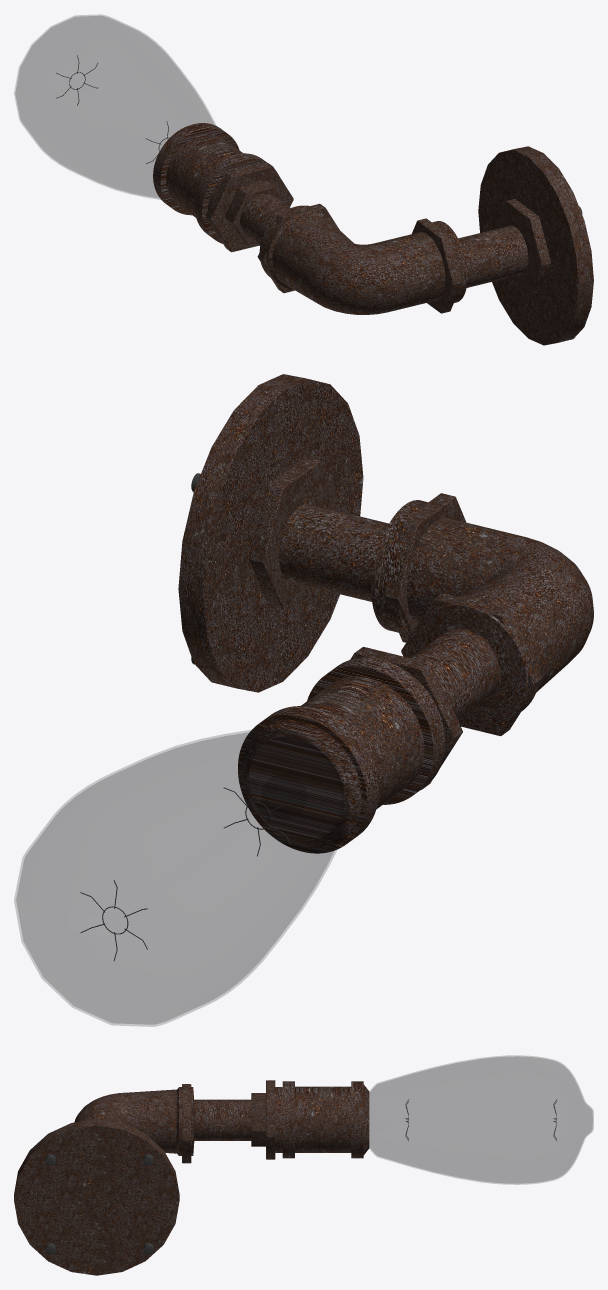
Rendered from lambaa2.fbx.
The picture shows the model from 3 angles, top to bottom: view 1: azimuth 30°, elevation 25°; view 2: azimuth 150°, elevation 25°; view 3: azimuth 270°, elevation 25°; orthographic projection. The views are drawn at different scales.
Parts seen in each view (by area): view 1: Line087, Line083, pCylinder1, Line089, Line084, Cylinder068, Cylinder063, Cylinder066, Line091, Cylinder069, Cylinder064; view 2: Line087, pCylinder1, Line089, Line083, Line084, Cylinder063, Line091, Cylinder066, Cylinder068, Cylinder064; view 3: Line087, pCylinder1, Line089, Line083, Line091, Cylinder069, Cylinder068, Cylinder064.
Part boxes in pixels (box(x1,y1,x2,y2)): Line087: box(14, 15, 215, 199); Line083: box(259, 205, 467, 314); pCylinder1: box(478, 146, 593, 345); Line089: box(153, 123, 278, 243); Line084: box(458, 225, 528, 287); Cylinder068: box(205, 162, 293, 252); Cylinder063: box(494, 199, 551, 293); Cylinder066: box(412, 218, 462, 313); Line091: box(239, 194, 290, 245); Cylinder069: box(224, 180, 286, 244); Cylinder064: box(257, 203, 339, 293); Line087: box(14, 728, 349, 1026); pCylinder1: box(178, 374, 363, 692); Line089: box(238, 657, 445, 853); Line083: box(371, 500, 593, 729); Line084: box(279, 503, 388, 601); Cylinder063: box(249, 456, 340, 608); Line091: box(410, 628, 501, 719); Cylinder066: box(383, 493, 466, 642); Cylinder068: box(350, 647, 462, 789); Cylinder064: box(401, 593, 542, 736); Line087: box(369, 1056, 593, 1184); pCylinder1: box(14, 1119, 179, 1275); Line089: box(275, 1081, 369, 1158); Line083: box(74, 1087, 194, 1155); Line091: box(194, 1099, 251, 1140); Cylinder069: box(251, 1093, 265, 1146); Cylinder068: box(266, 1080, 275, 1159); Cylinder064: box(182, 1084, 191, 1163).
Size of the model in its own units: 10.93 by 7.19 by 25.16.
3 materials, 1 textured.
